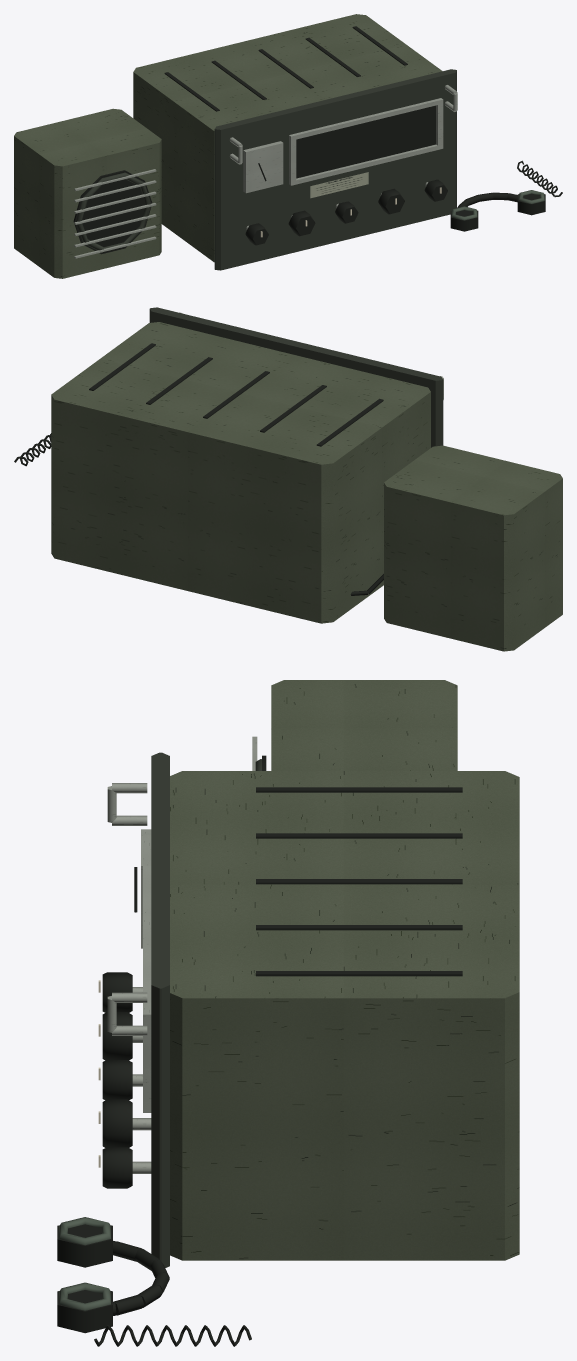
File: SM_FieldKit_Receiver_LOD2.fbx
The picture shows the model from 3 angles, top to bottom: view 1: azimuth 30°, elevation 25°; view 2: azimuth 150°, elevation 25°; view 3: azimuth 270°, elevation 25°; orthographic projection. The views are drawn at different scales.
Visible parts, largest first — view 1: SM_FieldKit_Receiver_LOD2; view 2: SM_FieldKit_Receiver_LOD2; view 3: SM_FieldKit_Receiver_LOD2.
Part boxes in pixels (box(x1,y1,x2,y2)): SM_FieldKit_Receiver_LOD2: box(14, 14, 562, 278); SM_FieldKit_Receiver_LOD2: box(14, 307, 562, 651); SM_FieldKit_Receiver_LOD2: box(57, 680, 519, 1346).
Bounding box in the file's own units: 1.03 × 0.4468 × 0.309.
